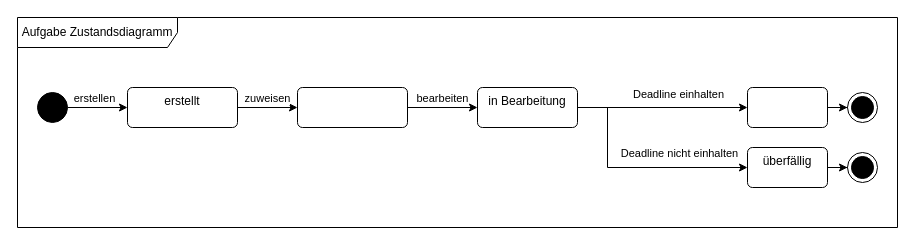
Some shapes in this 915 by 245 pixel diagram are drawn without their labels. The shapes that lost their labels are listed below. From the top down, each one's box as (x1, y1, x2, y2) in pixels, then its label:
(296, 86, 408, 128): zugewiesen
(746, 86, 828, 128): erledigt
